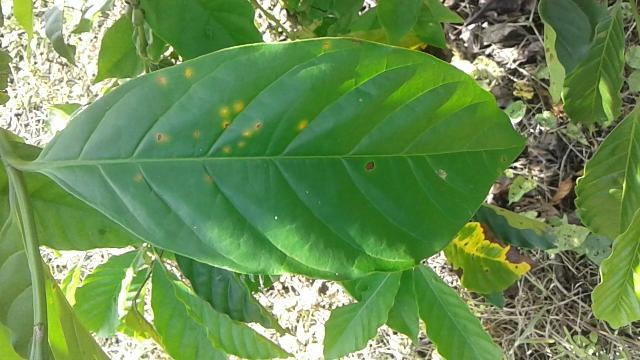rust_level_2: (33, 30, 532, 284)
